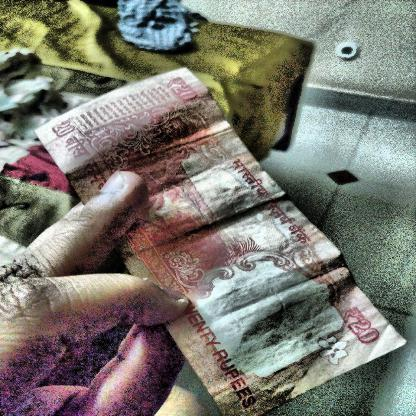Rs20: (332, 297, 395, 355)
